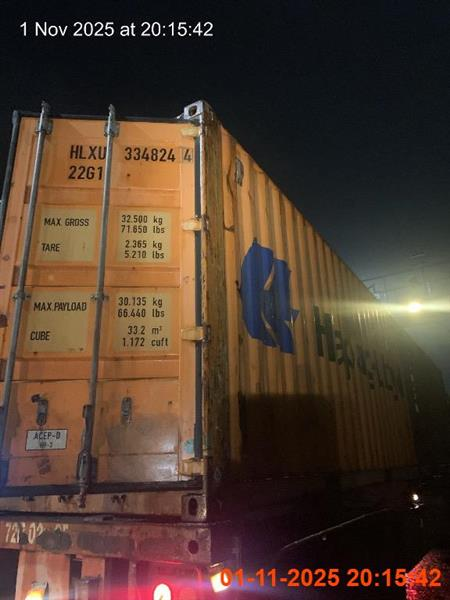broken: (0, 103, 447, 598)
